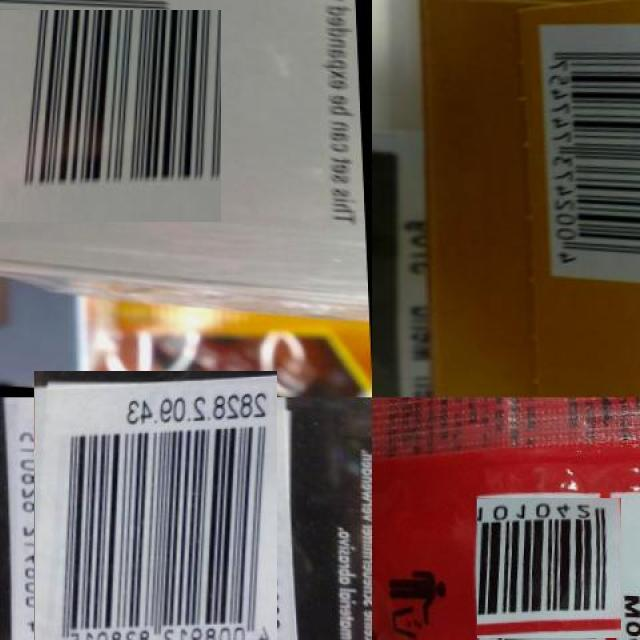Barcode: (22, 385, 290, 640), (0, 5, 217, 227), (544, 19, 640, 296), (478, 496, 620, 639)
